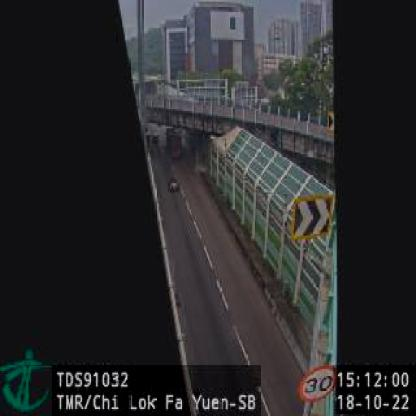Car: (168, 178, 178, 192)
Truck: (167, 128, 182, 160)
